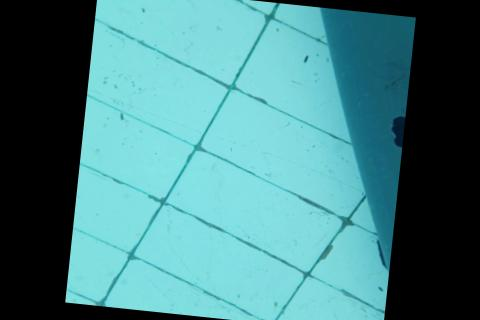kebocoran: (386, 113, 405, 148)
